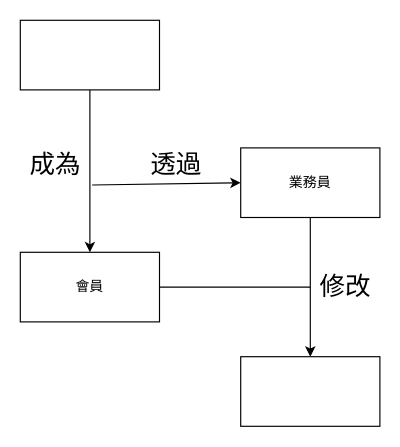
This 400x447 diagram has some shape labels left out. Here are the shapes that lost their labels. From the top down, the centre of each, then its label:
the point at 89,54: 客戶
the point at 310,391: 會員資料
